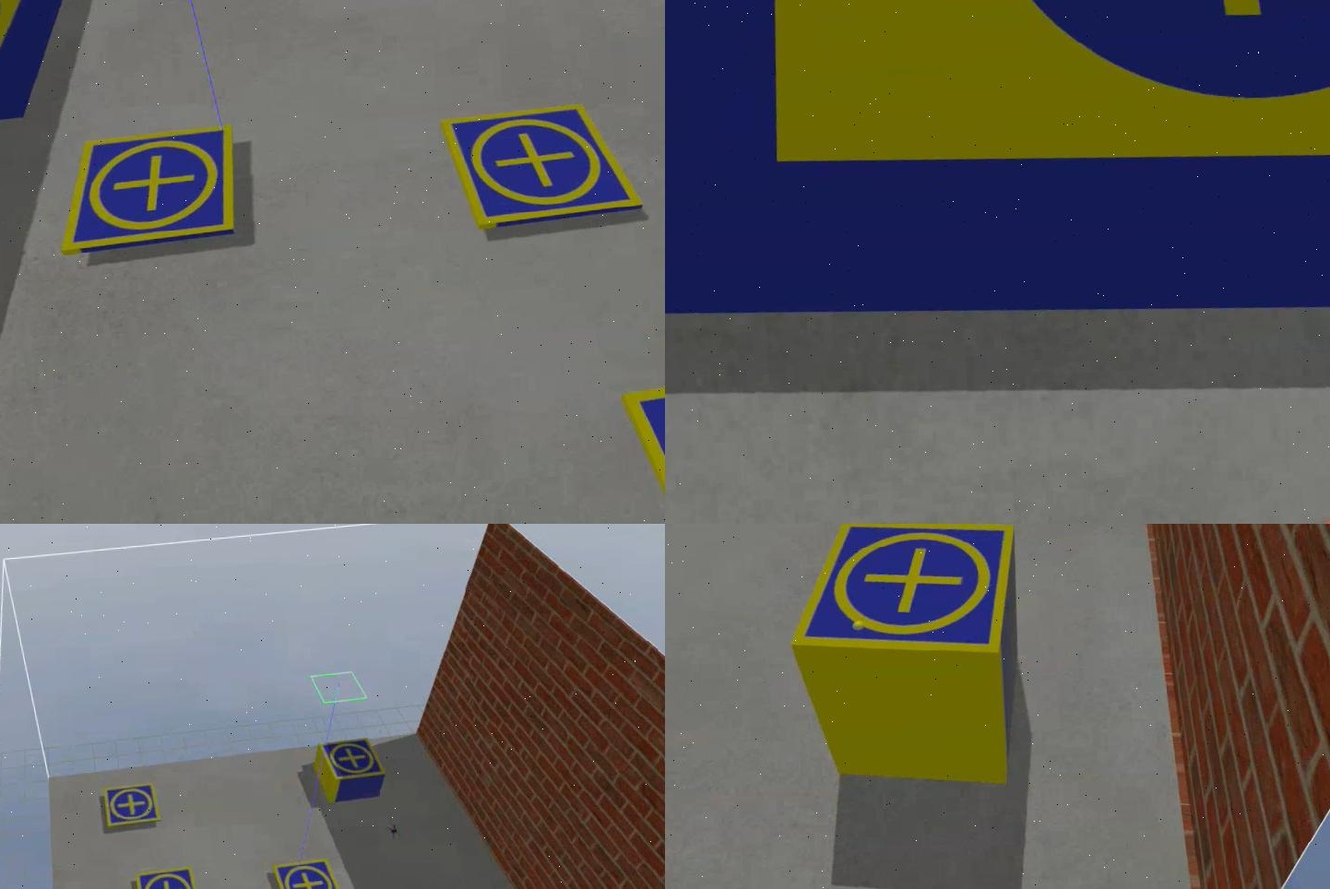large_base: (663, 1, 1328, 349)
small_base: (783, 524, 1021, 672), (437, 90, 646, 236), (51, 123, 241, 260), (315, 738, 383, 779), (101, 783, 160, 830), (271, 858, 344, 889), (134, 865, 199, 889)
